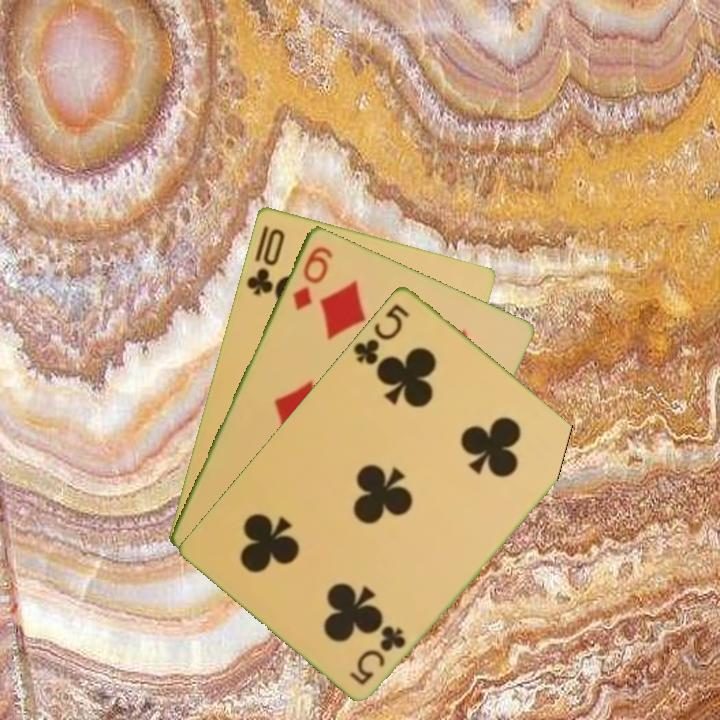10c: (242, 224, 287, 298)
5c: (349, 299, 412, 370), (345, 621, 409, 688)
6d: (288, 242, 336, 313)
